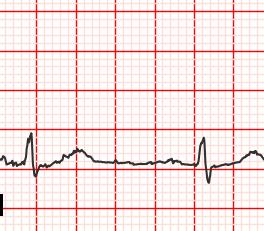LVH: (54, 142, 93, 169)
Poor R Progression: (21, 132, 39, 164), (195, 133, 210, 165)
ST Depression: (192, 160, 221, 188)
